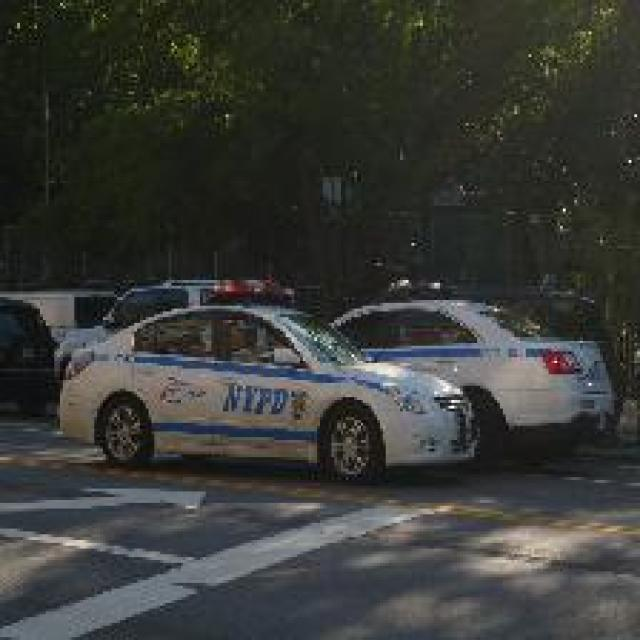emergency: (52, 282, 478, 486), (241, 277, 619, 463)
